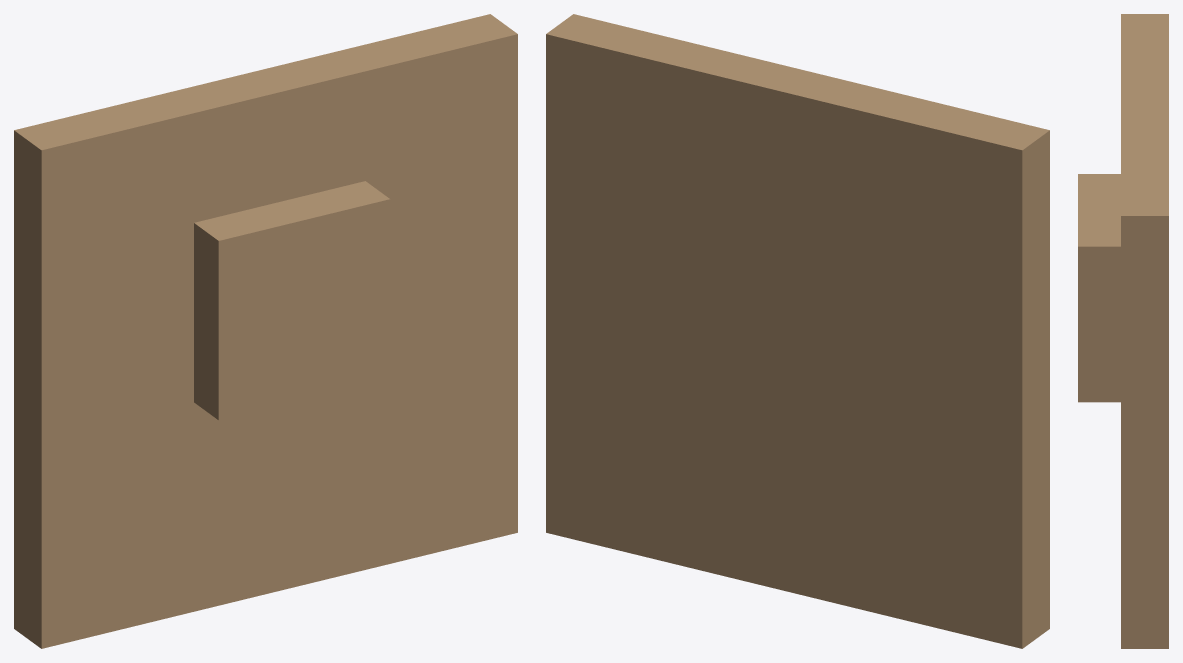
File: wooden_buckler.glb
3 views of the same model, side by side, from view 1: azimuth 30°, elevation 25°; view 2: azimuth 150°, elevation 25°; view 3: azimuth 270°, elevation 25° (orthographic). The views are drawn at different scales.
Visible parts, largest first — view 1: wooden_buckler; view 2: wooden_buckler; view 3: wooden_buckler.
Part boxes in pixels (x1,y1,x2,y2): wooden_buckler: (14,14,517,648); wooden_buckler: (546,14,1049,648); wooden_buckler: (1078,14,1168,648).
Size of the model in its own units: 0.5 by 0.5 by 0.095.
